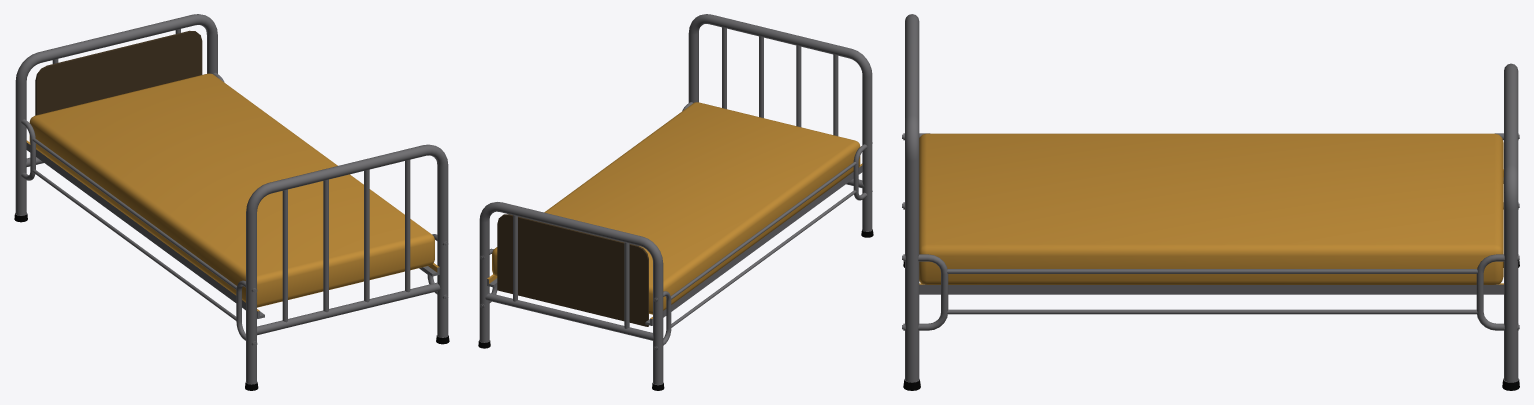
Rendered from bed.fbx.
The picture shows the model from 3 angles, left to right: view 1: azimuth 30°, elevation 25°; view 2: azimuth 150°, elevation 25°; view 3: azimuth 270°, elevation 25°; orthographic projection. The views are drawn at different scales.
Parts seen in each view (by area): view 1: Bed; view 2: Bed; view 3: Bed.
Boxes of the visible parts, <box> form: Bed: <box>14,14,449,390</box>; Bed: <box>478,14,873,390</box>; Bed: <box>902,14,1519,390</box>.
Size of the model in its own units: 99.07 by 93.48 by 201.
